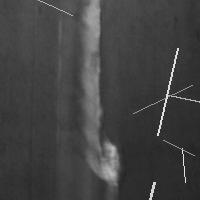scratches: (74, 1, 121, 195), (153, 43, 183, 140), (128, 80, 197, 118), (14, 0, 77, 20), (158, 135, 199, 160), (161, 89, 200, 112), (177, 143, 190, 187), (142, 177, 159, 200)
